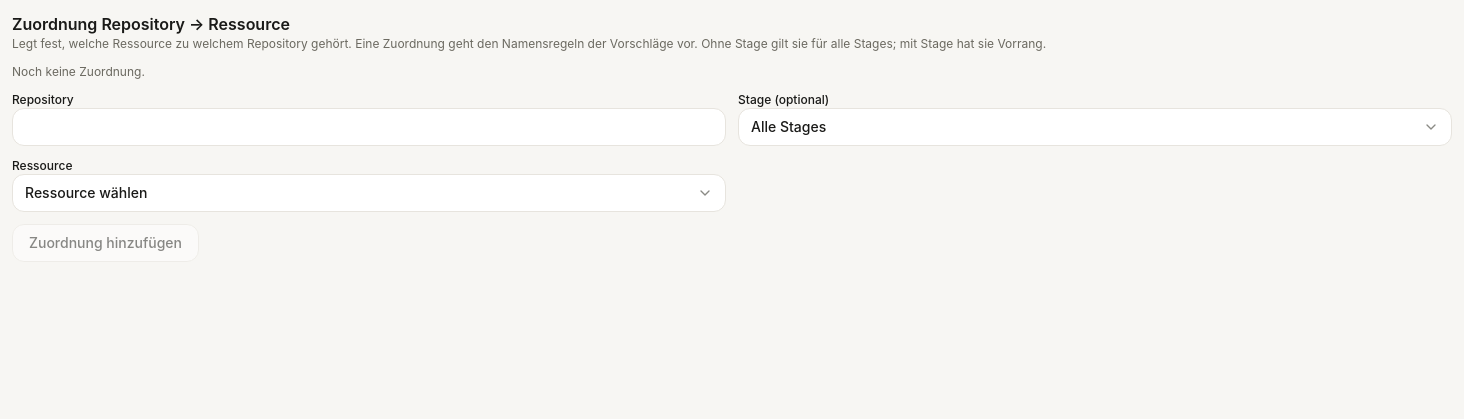
ResourceMapPanel › saves without a stage and shows a failed save
Later steps or results of the test are not shown.
Expected: the text "Noch keine Zuordnung." is shown, [12, 64, 145, 79]
Type "web" into the dropdown labelled "Repository". click: (369, 127)
box: [12, 108, 726, 146]
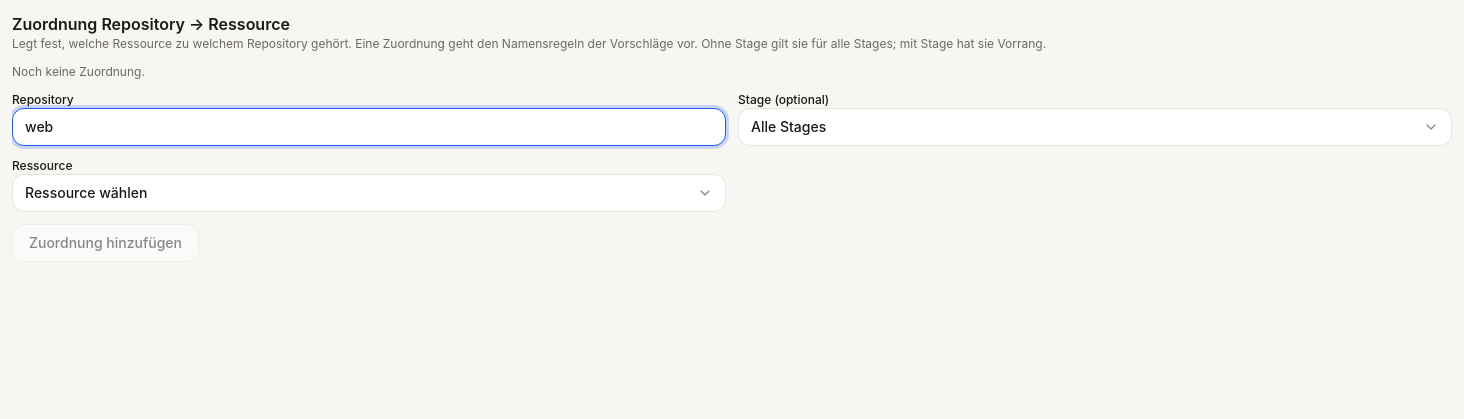
Click the dropdown labelled "Ressource". click: (86, 192)
box: [12, 174, 726, 212]
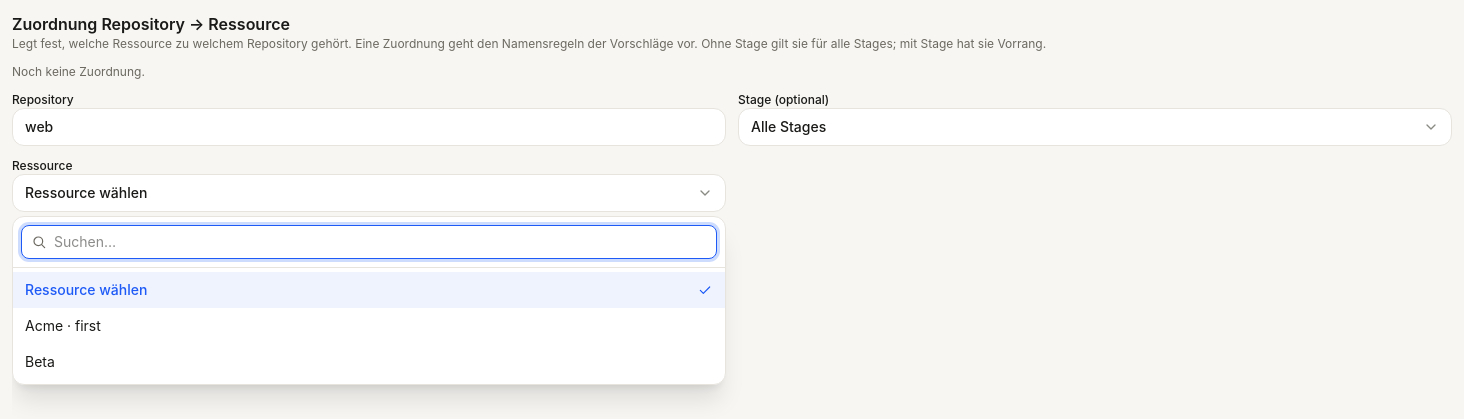
Click the option "Acme · first". click: (63, 326)
box: [25, 317, 101, 334]
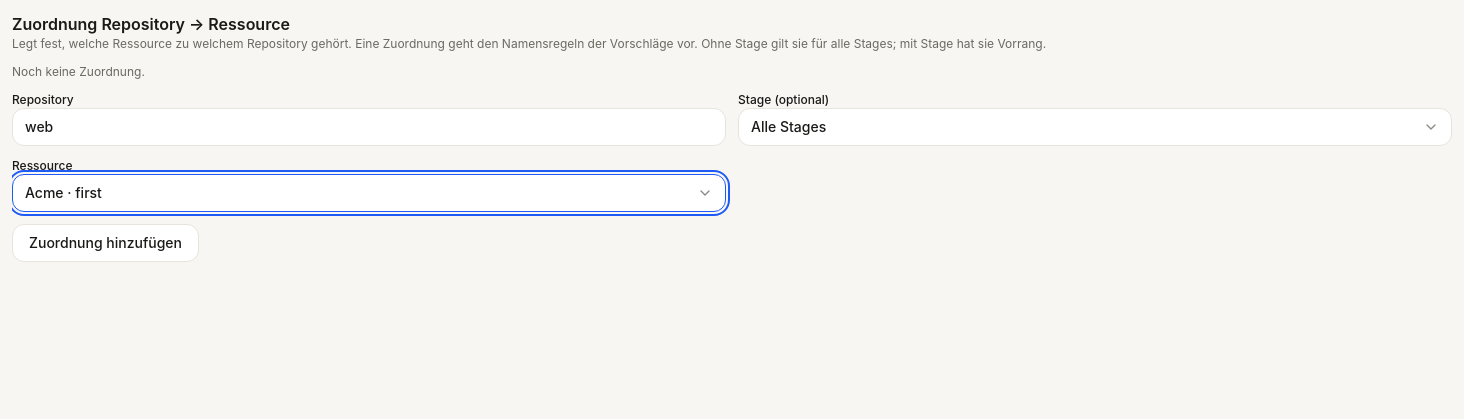
Click the button "Zuordnung hinzufügen". click: (106, 243)
box: [12, 224, 199, 262]
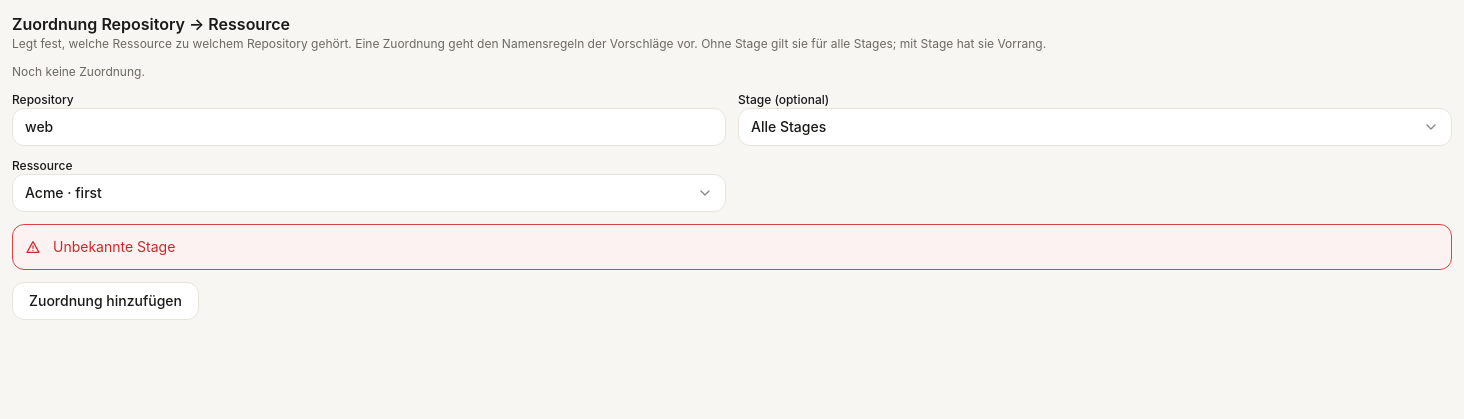
Expected: the text "Unbekannte Stage" is shown, [53, 238, 175, 255]
